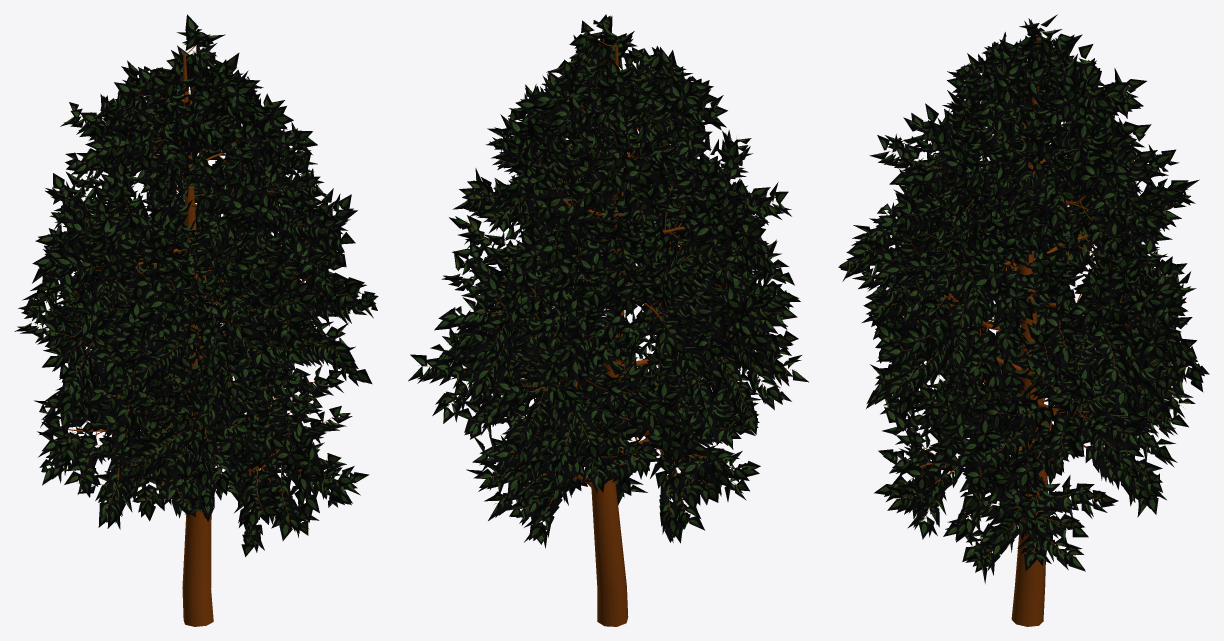
Rendered from songshu.glb.
The picture shows the model from 3 angles, left to right: view 1: azimuth 30°, elevation 25°; view 2: azimuth 150°, elevation 25°; view 3: azimuth 270°, elevation 25°; orthographic projection. The views are drawn at different scales.
Parts seen in each view (by area): view 1: meshname.002, meshname; view 2: meshname.002, meshname; view 3: meshname.002, meshname.
Boxes of the visible parts, <box> form: meshname.002: <box>14,14,378,556</box>; meshname: <box>35,45,375,626</box>; meshname.002: <box>408,14,808,548</box>; meshname: <box>418,29,796,626</box>; meshname.002: <box>838,14,1209,583</box>; meshname: <box>846,28,1191,626</box>.
Bounding box in the file's own units: 4.91 × 8.4 × 4.65.
2 materials, 1 textured.
